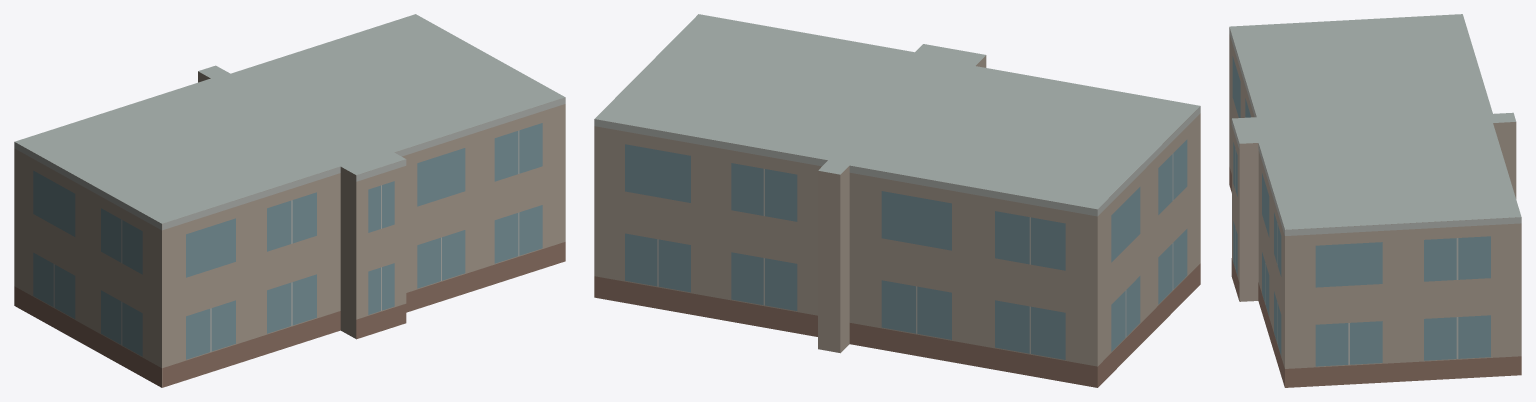
The model's file is survey-upis-32820105.glb.
The picture shows the model from 3 angles, left to right: view 1: azimuth 30°, elevation 25°; view 2: azimuth 150°, elevation 25°; view 3: azimuth 270°, elevation 25°; orthographic projection. The views are drawn at different scales.
Parts seen in each view (by area): view 1: survey-upis-32820105.tmp; view 2: survey-upis-32820105.tmp; view 3: survey-upis-32820105.tmp.
Boxes of the visible parts, left/top/right/bottom form: survey-upis-32820105.tmp: left=14, top=14, right=565, bottom=387; survey-upis-32820105.tmp: left=594, top=14, right=1200, bottom=387; survey-upis-32820105.tmp: left=1229, top=14, right=1521, bottom=387.
Bounding box in the file's own units: 17.87 × 6.1 × 10.23.
